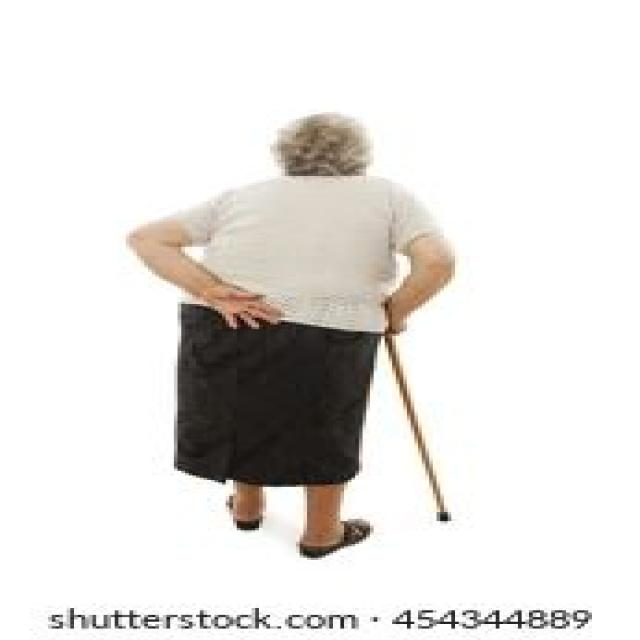idoso em pe: (124, 103, 468, 561)
